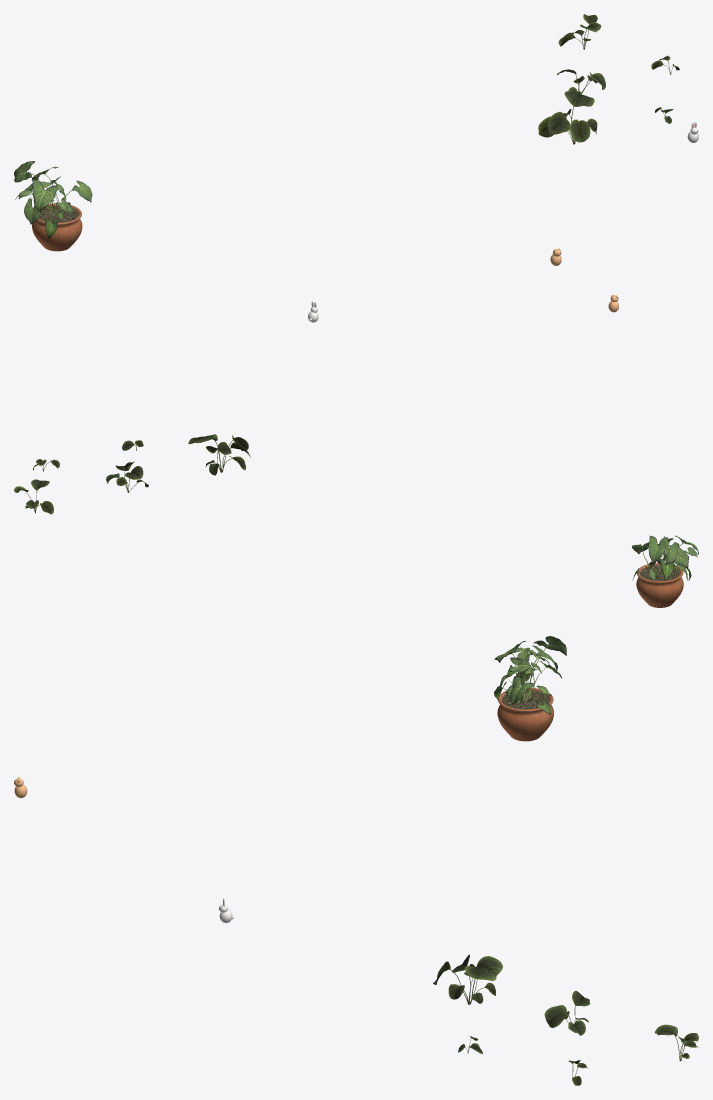
File: room_stocks_props.glb
3 renders of one model, top to bottom at view 1: azimuth 30°, elevation 25°; view 2: azimuth 150°, elevation 25°; view 3: azimuth 270°, elevation 25°, orthographic. The views are drawn at different scales.
Visible parts, largest first — view 1: prop_potted_plant_02_1_potted_plant_02_leaves, prop_calathea_orbifolia_01_2_calathea_orbifolia_01_a, prop_potted_plant_02_1_potted_plant_02_pot, prop_calathea_orbifolia_01_2_calathea_orbifolia_01_c, prop_potted_plant_02_1_potted_plant_02_dirt; view 2: prop_potted_plant_02_1_potted_plant_02_leaves, prop_potted_plant_02_1_potted_plant_02_pot, prop_calathea_orbifolia_01_2_calathea_orbifolia_01_a, prop_calathea_orbifolia_01_2_calathea_orbifolia_01_b; view 3: prop_potted_plant_02_1_potted_plant_02_leaves, prop_potted_plant_02_1_potted_plant_02_pot, prop_calathea_orbifolia_01_2_calathea_orbifolia_01_a, prop_calathea_orbifolia_01_2_calathea_orbifolia_01_b.
Part boxes in pixels (x1,y1,x2,y2): prop_potted_plant_02_1_potted_plant_02_leaves: (14,161,92,238); prop_calathea_orbifolia_01_2_calathea_orbifolia_01_a: (538,90,597,144); prop_potted_plant_02_1_potted_plant_02_pot: (32,203,82,251); prop_calathea_orbifolia_01_2_calathea_orbifolia_01_c: (558,14,601,49); prop_potted_plant_02_1_potted_plant_02_dirt: (39,205,78,222); prop_potted_plant_02_1_potted_plant_02_leaves: (632,535,698,580); prop_potted_plant_02_1_potted_plant_02_pot: (636,563,683,607); prop_calathea_orbifolia_01_2_calathea_orbifolia_01_a: (188,434,250,475); prop_calathea_orbifolia_01_2_calathea_orbifolia_01_b: (106,461,148,492); prop_potted_plant_02_1_potted_plant_02_leaves: (494,636,566,714); prop_potted_plant_02_1_potted_plant_02_pot: (497,687,553,741); prop_calathea_orbifolia_01_2_calathea_orbifolia_01_a: (433,954,502,1004); prop_calathea_orbifolia_01_2_calathea_orbifolia_01_b: (544,991,590,1035).
Size of the model in its own units: 7.78 by 1.08 by 6.01.
Materials: 8 (3 with a texture image).
